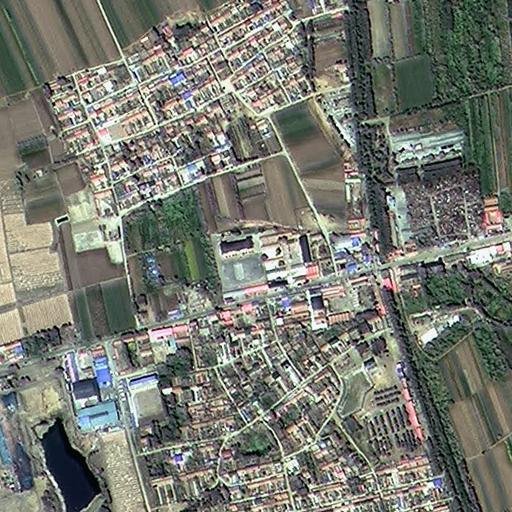school: (209, 225, 335, 295)
